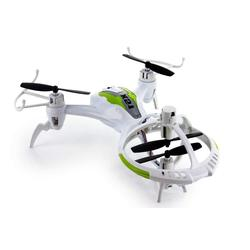drone: (13, 45, 221, 204)
